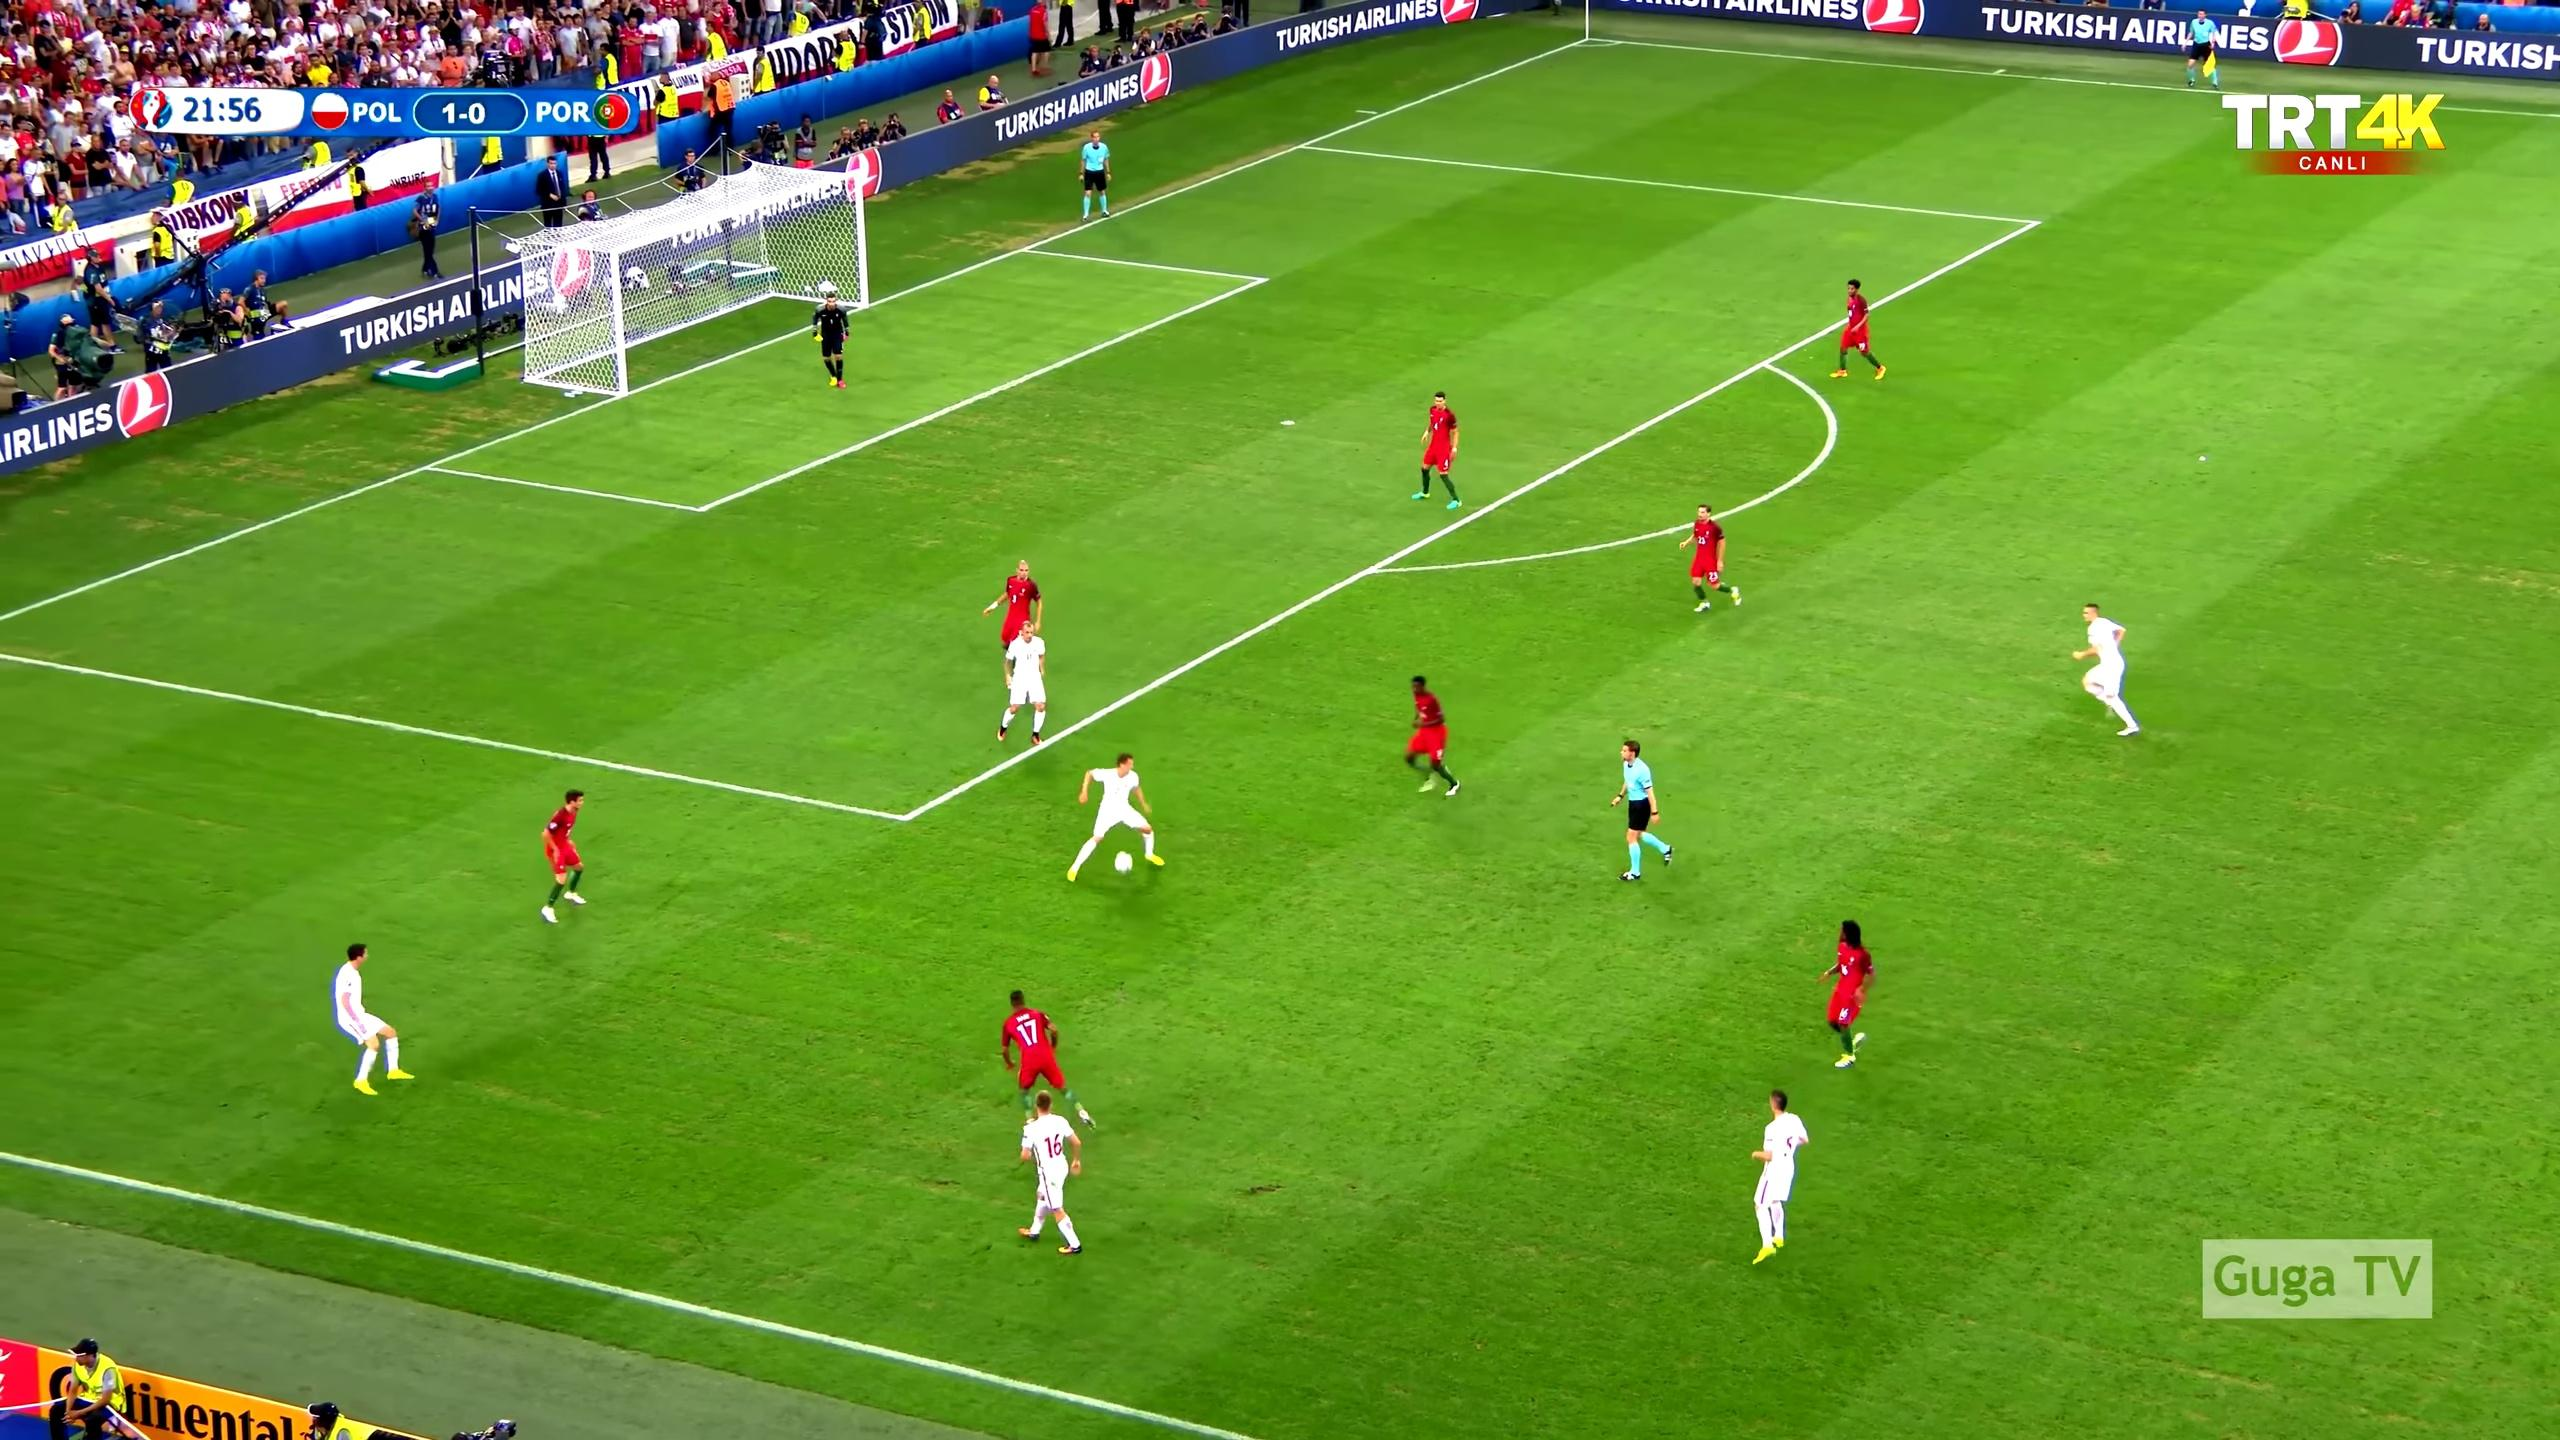ball: (1111, 850, 1135, 876)
goalkeeper: (809, 289, 856, 395)
player: (997, 987, 1102, 1137), (1063, 749, 1168, 885), (330, 941, 420, 1098), (1014, 1088, 1087, 1258), (1747, 1081, 1813, 1267), (2064, 597, 2143, 741), (1816, 911, 1882, 1075), (1397, 667, 1465, 803), (1406, 387, 1475, 518), (979, 556, 1043, 696), (1674, 499, 1746, 616), (994, 620, 1053, 750), (537, 784, 589, 929), (1827, 276, 1889, 388)
referee: (1607, 737, 1683, 885), (1077, 127, 1117, 229), (2180, 4, 2223, 98)
